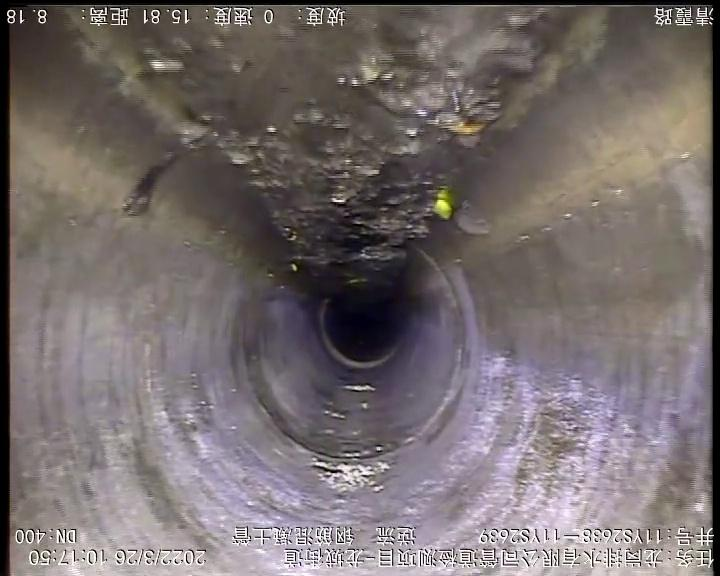CJ: (82, 7, 547, 284)
CKTJ: (312, 295, 406, 372)
PL: (312, 460, 396, 495)
